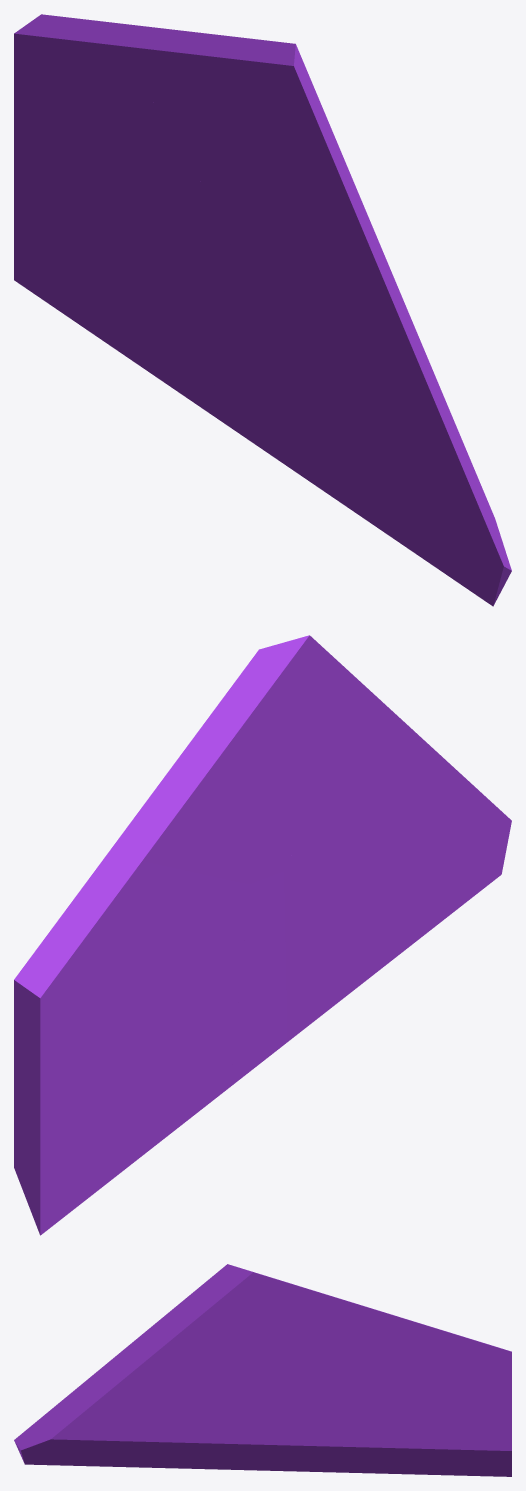
File: Window_10_2_chunks.fbx
The picture shows the model from 3 angles, top to bottom: view 1: azimuth 30°, elevation 25°; view 2: azimuth 150°, elevation 25°; view 3: azimuth 270°, elevation 25°; orthographic projection. The views are drawn at different scales.
Parts seen in each view (by area): view 1: Window_10_2_2, Window_10_2_0, Window_10_2_3, Window_10_2_1; view 2: Window_10_2_2, Window_10_2_0, Window_10_2_3, Window_10_2_1; view 3: Window_10_2_2, Window_10_2_0, Window_10_2_3, Window_10_2_1.
Boxes of the visible parts, x1,y1,x2,y2 form: Window_10_2_2: (14, 14, 231, 413); Window_10_2_0: (267, 221, 511, 606); Window_10_2_3: (120, 27, 369, 270); Window_10_2_1: (211, 233, 270, 454); Window_10_2_2: (14, 839, 249, 1235); Window_10_2_0: (283, 694, 511, 1041); Window_10_2_3: (118, 635, 373, 883); Window_10_2_1: (230, 871, 287, 1086); Window_10_2_2: (260, 1318, 511, 1476); Window_10_2_0: (14, 1320, 263, 1470); Window_10_2_3: (160, 1264, 402, 1384); Window_10_2_1: (251, 1452, 311, 1471).
Size of the model in its own units: 27.2 by 398 by 844.
